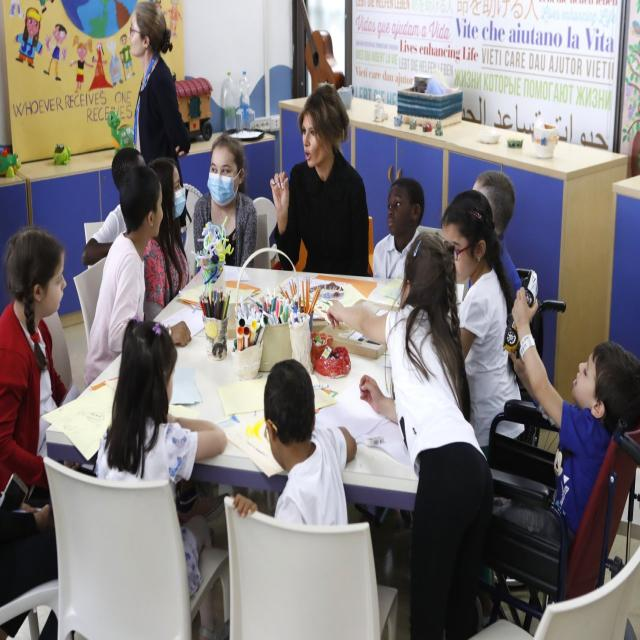body: (325, 230, 497, 639), (473, 284, 640, 633), (96, 320, 228, 640), (83, 165, 193, 392), (439, 188, 527, 460), (230, 357, 358, 528), (0, 227, 71, 505), (269, 82, 371, 273), (0, 2, 192, 94), (0, 450, 70, 639), (128, 1, 192, 185), (191, 133, 259, 268), (81, 146, 149, 272), (466, 168, 524, 313), (143, 154, 191, 323), (372, 176, 426, 282), (376, 92, 444, 141)
